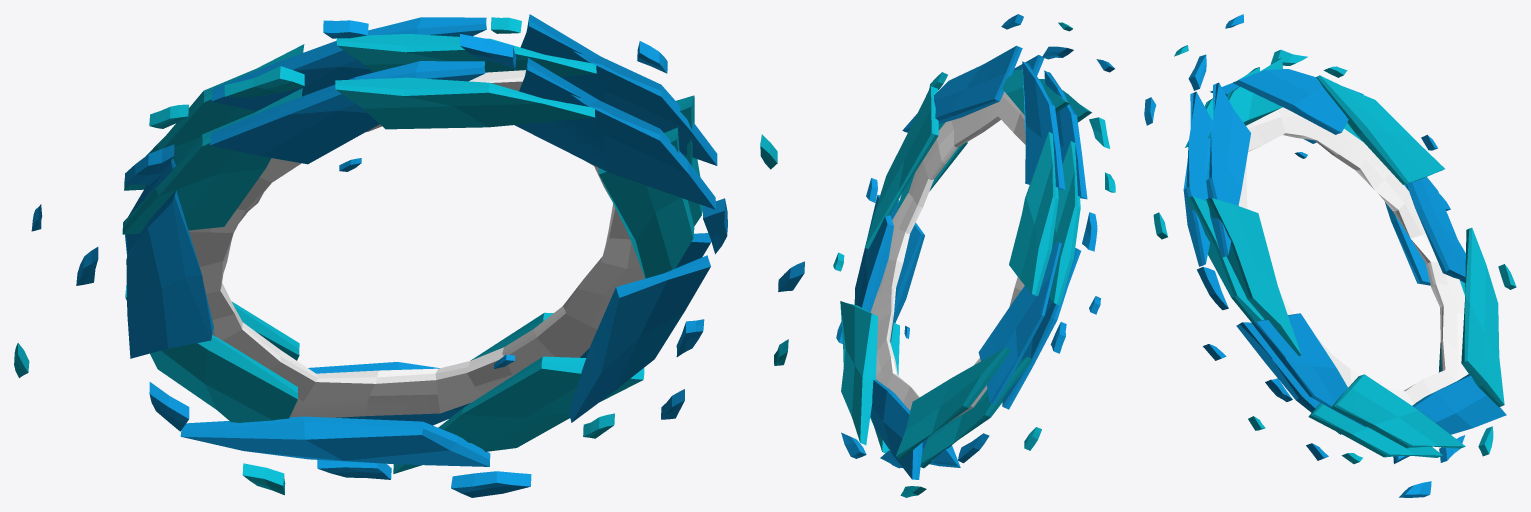
Rendered from BlueE.fbx.
3 renders of one model, left to right at view 1: azimuth 30°, elevation 25°; view 2: azimuth 150°, elevation 25°; view 3: azimuth 270°, elevation 25°, orthographic. The views are drawn at different scales.
Parts seen in each view (by area): view 1: BlueE; view 2: BlueE; view 3: BlueE.
Part boxes in pixels (x1=…): BlueE: x1=14, y1=14, x2=804, y2=497; BlueE: x1=833, y1=14, x2=1115, y2=497; BlueE: x1=1144, y1=14, x2=1516, y2=497.
Bounding box in the file's own units: 0.6211 × 0.6475 × 0.5459.
